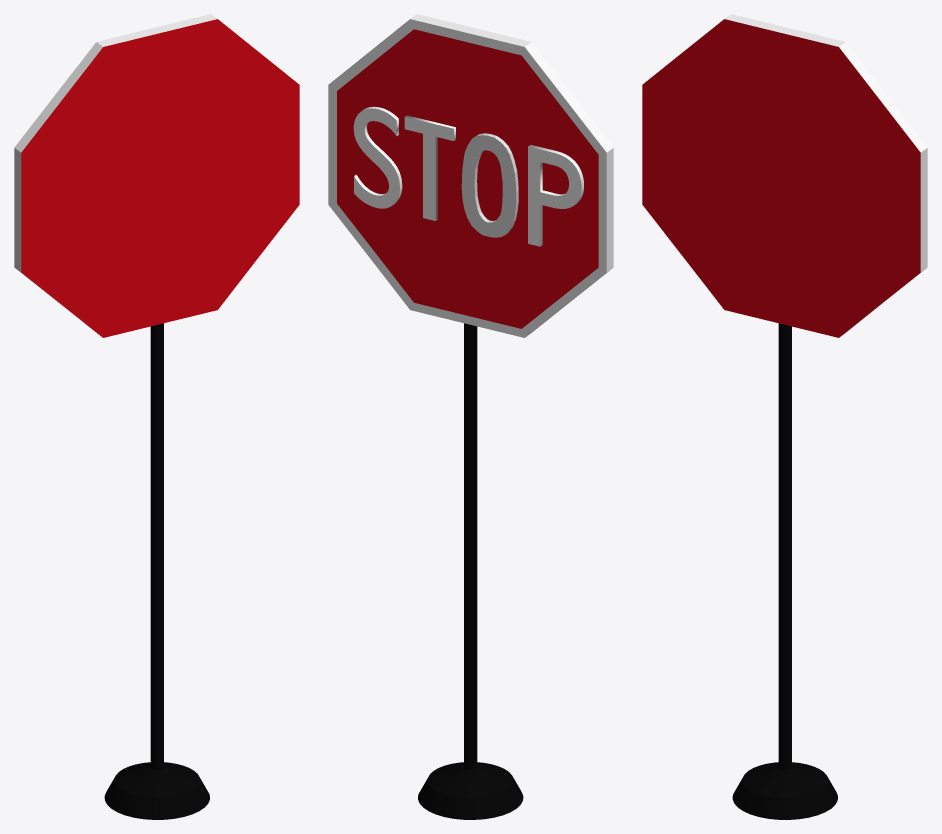
File: STOP.fbx
The picture shows the model from 3 angles, left to right: view 1: azimuth 30°, elevation 25°; view 2: azimuth 150°, elevation 25°; view 3: azimuth 330°, elevation 25°; orthographic projection.
Parts seen in each view (by area): view 1: Cube, Circle; view 2: Cube, Circle, Circle.002, Text.003, Text, Text.001; view 3: Cube, Circle.
Boxes of the visible parts, box(x1,y1,x2,y2) form: Cube: box(14, 14, 299, 337); Circle: box(104, 323, 209, 819); Cube: box(328, 14, 613, 337); Circle: box(418, 323, 523, 819); Circle.002: box(461, 133, 518, 237); Text.003: box(528, 144, 583, 246); Text: box(353, 106, 402, 208); Text.001: box(404, 115, 455, 220); Cube: box(642, 14, 927, 337); Circle: box(732, 323, 837, 819).
Size of the model in its own units: 168 by 443 by 55.3.
